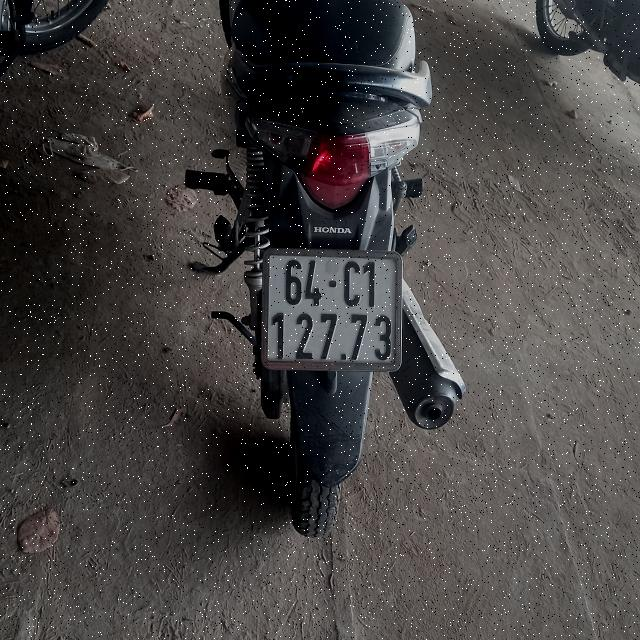1: (272, 312, 284, 359), (363, 262, 375, 306)
2: (296, 313, 314, 360)
3: (374, 315, 392, 361)
4: (305, 259, 322, 306)
6: (284, 259, 304, 306)
7: (319, 312, 337, 360), (351, 314, 368, 362)
C: (345, 262, 361, 306)
